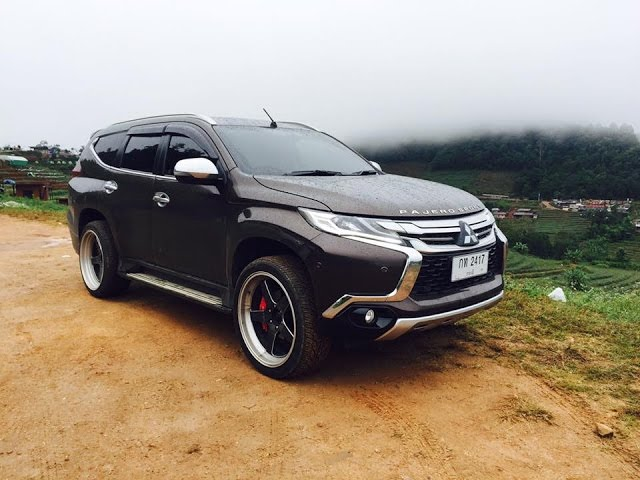pickup: (65, 112, 510, 380)
